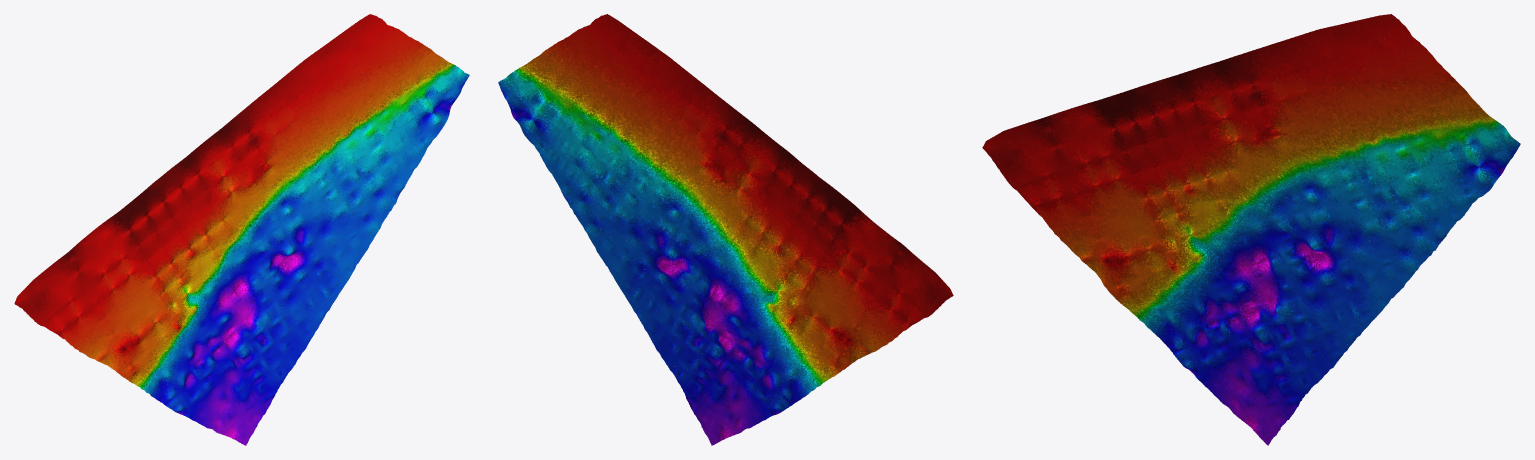
The model's file is Topo_Mioceno.glb.
3 views of the same model, side by side, from view 1: azimuth 30°, elevation 25°; view 2: azimuth 150°, elevation 25°; view 3: azimuth 330°, elevation 25° (orthographic). The views are drawn at different scales.
Visible parts, largest first — view 1: Surface; view 2: Surface; view 3: Surface.
Boxes of the visible parts, box(x1,y1,x2,y2) form: Surface: box(14, 14, 469, 445); Surface: box(498, 14, 953, 445); Surface: box(982, 14, 1520, 445).
Size of the model in its own units: 380750 by 322750 by 16303.
Materials: 1 (1 with a texture image).
